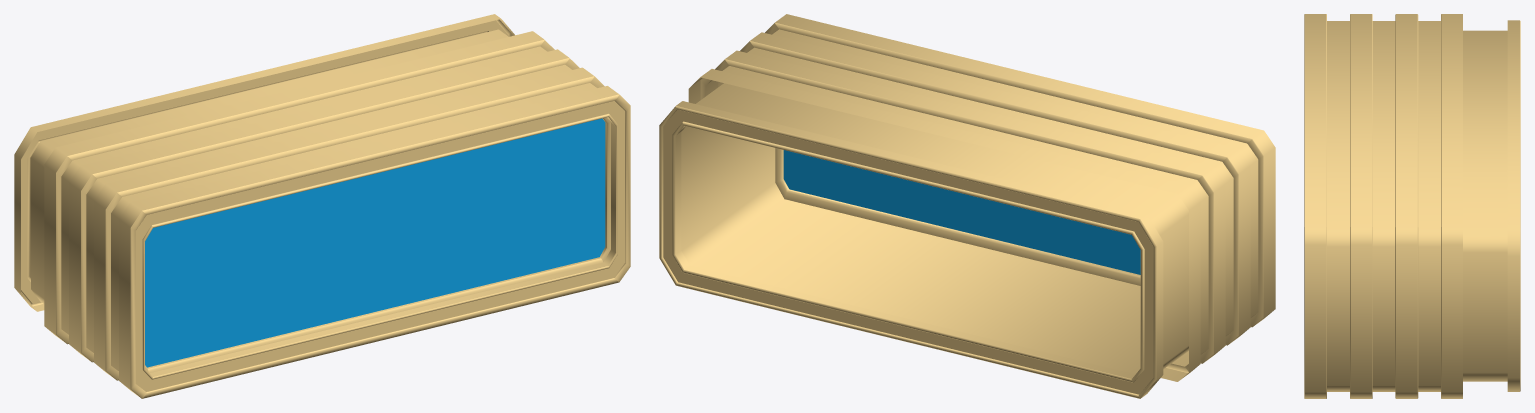
File: cabin_bed.FBX
3 views of the same model, side by side, from view 1: azimuth 30°, elevation 25°; view 2: azimuth 150°, elevation 25°; view 3: azimuth 270°, elevation 25° (orthographic). The views are drawn at different scales.
Parts seen in each view (by area): view 1: bed; view 2: bed; view 3: bed.
Part boxes in pixels (x1,y1,x2,y2): bed: [14, 14, 630, 398]; bed: [659, 14, 1275, 398]; bed: [1304, 14, 1520, 398].
Size of the model in its own units: 204 by 83.69 by 73.45.
